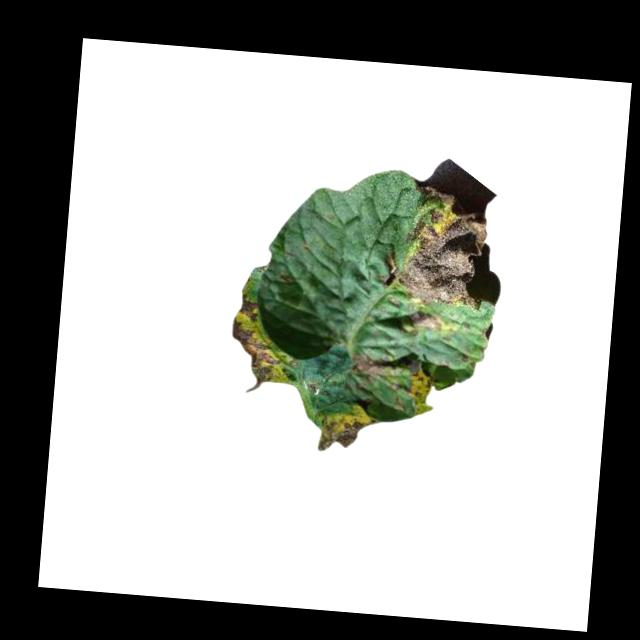Early_blight: (392, 181, 491, 309), (227, 297, 303, 385), (315, 406, 370, 456), (353, 350, 386, 383), (408, 368, 434, 406), (406, 310, 444, 331)
